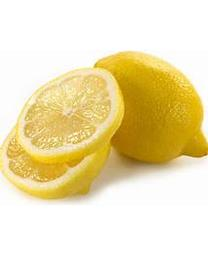lemon: (90, 51, 205, 165), (18, 66, 127, 163), (1, 118, 110, 199)
